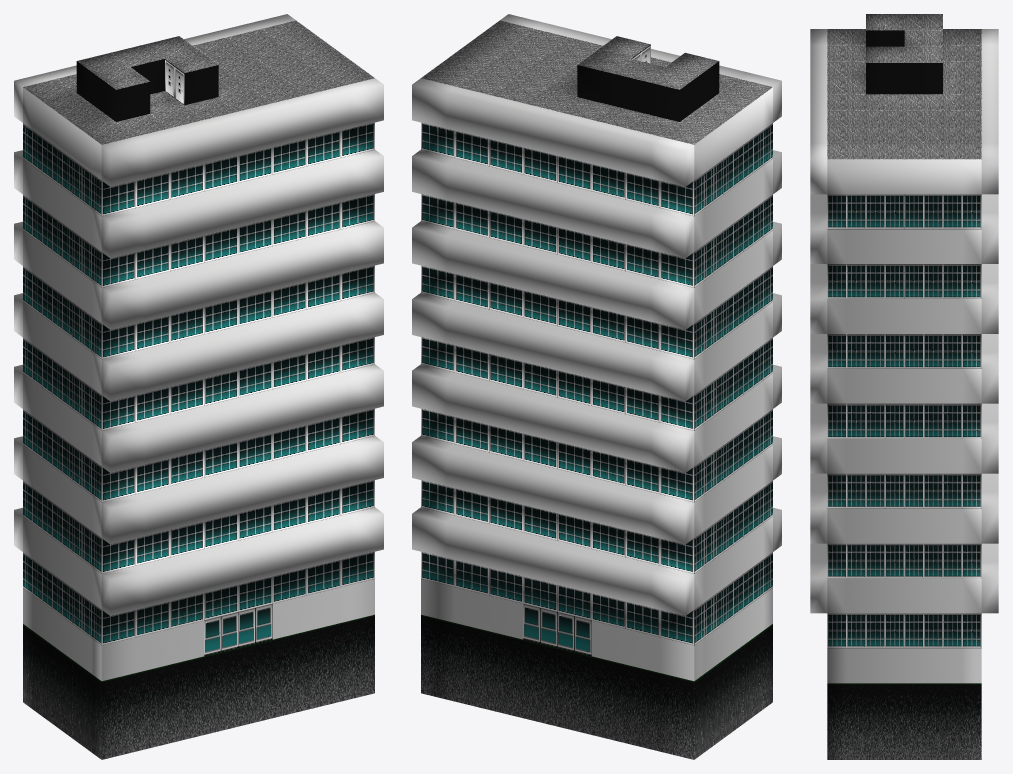
The model's file is kantoor_mod4_1a.fbx.
3 renders of one model, left to right at view 1: azimuth 30°, elevation 25°; view 2: azimuth 150°, elevation 25°; view 3: azimuth 270°, elevation 25°, orthographic. The views are drawn at different scales.
Parts seen in each view (by area): view 1: kantoor_mod4_1a; view 2: kantoor_mod4_1a; view 3: kantoor_mod4_1a.
Part boxes in pixels (left/top/right/bottom): kantoor_mod4_1a: left=14, top=14, right=383, bottom=759; kantoor_mod4_1a: left=412, top=14, right=781, bottom=759; kantoor_mod4_1a: left=810, top=14, right=998, bottom=759.
Bounding box in the file's own units: 2880 × 6516 × 1760.
